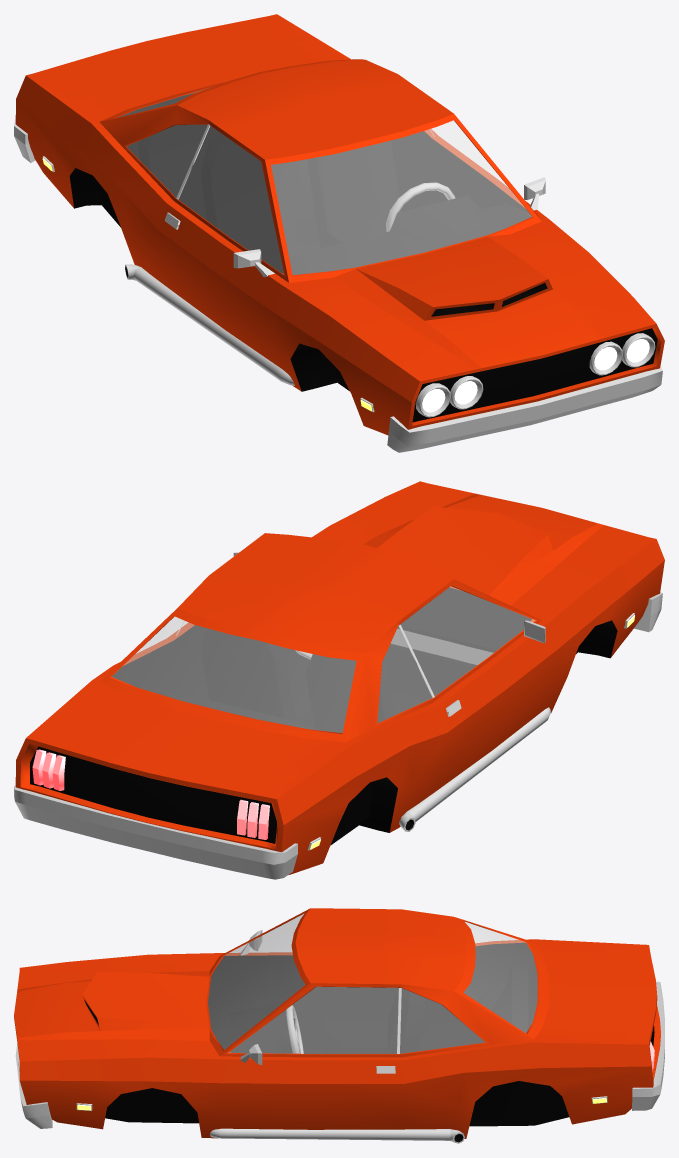
Rendered from muscle-car.glb.
3 renders of one model, top to bottom at view 1: azimuth 30°, elevation 25°; view 2: azimuth 150°, elevation 25°; view 3: azimuth 270°, elevation 25°, orthographic. The views are drawn at different scales.
Parts seen in each view (by area): view 1: Cube; view 2: Cube; view 3: Cube.
Boxes of the visible parts, x1=… form: Cube: x1=14, y1=14, x2=664, y2=452; Cube: x1=14, y1=481, x2=664, y2=879; Cube: x1=14, y1=908, x2=664, y2=1143.
Bounding box in the file's own units: 2.02 × 1.12 × 4.5.
